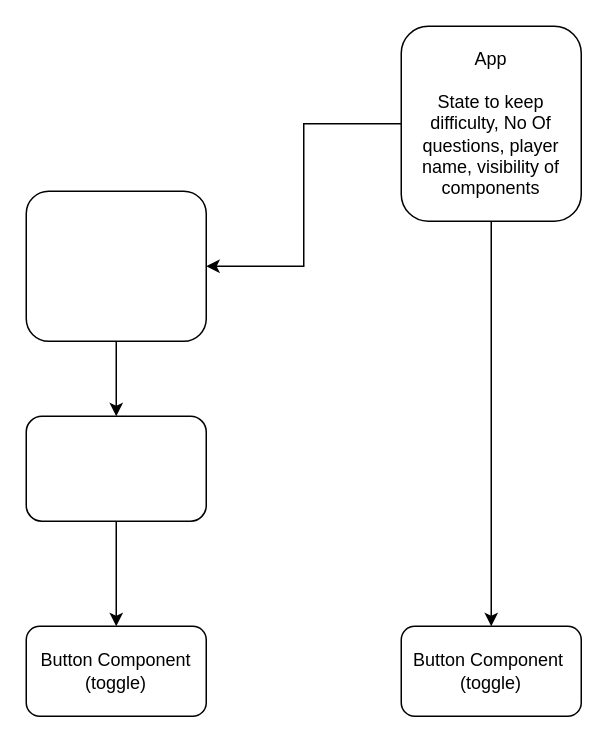
Image size: 608x743. Some labels were removed from this diagram. Each missing label, with the centre of its shape:
4 x DisplayAnswers (Render button): the point at 115,468
DisplayQuestion States fetch URL - pass down the data to the answers: the point at 115,265
